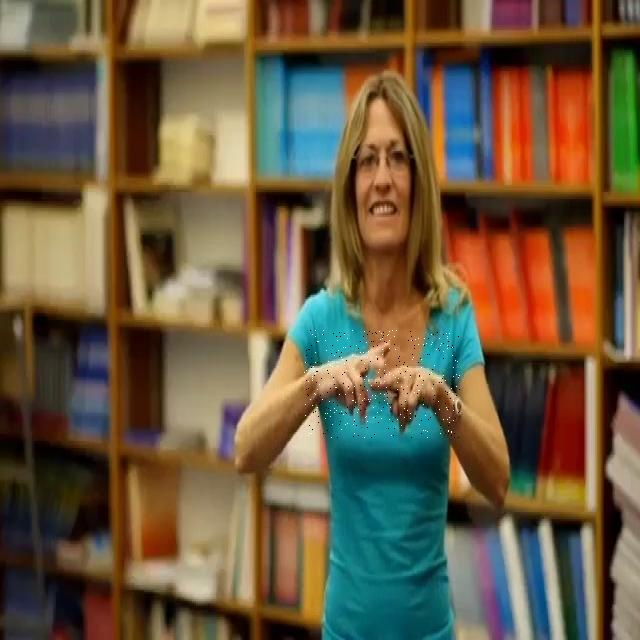salt: (304, 330, 460, 438)
